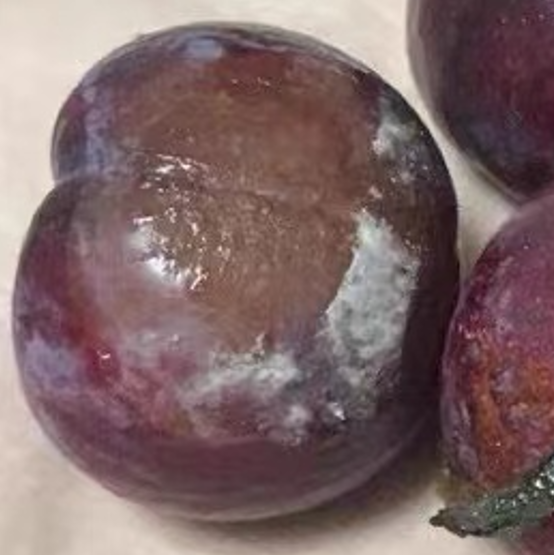plum_C: (12, 22, 462, 521)
